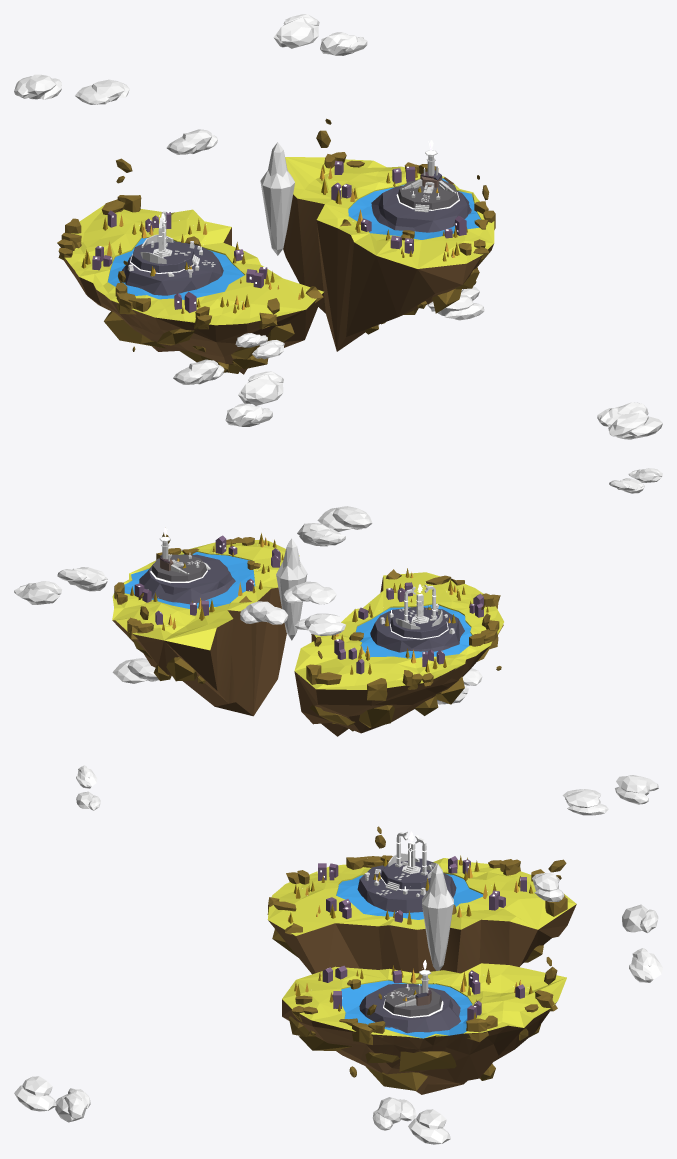
The model's file is Islands_prez.glb.
The picture shows the model from 3 angles, top to bottom: view 1: azimuth 30°, elevation 25°; view 2: azimuth 150°, elevation 25°; view 3: azimuth 270°, elevation 25°; orthographic projection. The views are drawn at different scales.
Parts seen in each view (by area): view 1: Cylinder.029, Cylinder.087, Cylinder.022, TourCentrale, SocleTour01, SOL, Nuage02.012, Nuage02.010, Nuage01.000, SOL.003, Nuage05.025, Nuage05.026 (+7 smaller); view 2: Cylinder.029, Cylinder.087, Cylinder.022, SocleTour01, TourCentrale, Nuage01.000, SOL, SOL.003, Nuage05.026, Nuage02.012, Nuage05.027, Nuage01.008 (+6 smaller); view 3: Cylinder.087, Cylinder.029, Cylinder.022, TourCentrale, SocleTour01, SOL.003, Nuage01.008, Nuage01.000, Icosphere.107, Nuage05.028, Nuage05.025, SOL (+6 smaller).
Boxes of the visible parts, bbox=[...] form: Cylinder.029: bbox=[283, 157, 494, 351]; Cylinder.087: bbox=[64, 205, 323, 374]; Cylinder.022: bbox=[371, 185, 471, 232]; TourCentrale: bbox=[260, 142, 294, 255]; SocleTour01: bbox=[122, 242, 223, 295]; SOL: bbox=[131, 241, 194, 272]; Nuage02.012: bbox=[273, 14, 319, 48]; Nuage02.010: bbox=[238, 371, 283, 405]; Nuage01.000: bbox=[608, 413, 662, 439]; SOL.003: bbox=[398, 180, 458, 209]; Nuage05.025: bbox=[14, 74, 61, 99]; Nuage05.026: bbox=[75, 79, 129, 104]; Cylinder.029: bbox=[112, 540, 299, 716]; Cylinder.087: bbox=[294, 572, 503, 736]; Cylinder.022: bbox=[139, 554, 235, 604]; SocleTour01: bbox=[370, 606, 464, 652]; TourCentrale: bbox=[276, 538, 307, 640]; Nuage01.000: bbox=[317, 506, 372, 531]; SOL: bbox=[390, 608, 447, 638]; SOL.003: bbox=[151, 554, 206, 581]; Nuage05.026: bbox=[283, 581, 336, 604]; Nuage02.012: bbox=[57, 567, 107, 591]; Nuage05.027: bbox=[240, 601, 287, 624]; Nuage01.008: bbox=[112, 658, 158, 683]; Cylinder.087: bbox=[267, 858, 576, 974]; Cylinder.029: bbox=[282, 963, 566, 1094]; Cylinder.022: bbox=[359, 983, 460, 1033]; TourCentrale: bbox=[422, 864, 453, 970]; SocleTour01: bbox=[357, 865, 456, 913]; SOL.003: bbox=[384, 986, 441, 1016]; Nuage01.008: bbox=[408, 1109, 450, 1144]; Nuage01.000: bbox=[14, 1076, 56, 1111]; Icosphere.107: bbox=[399, 1051, 456, 1071]; Nuage05.028: bbox=[372, 1097, 416, 1130]; Nuage05.025: bbox=[615, 775, 658, 804]; SOL: bbox=[381, 858, 437, 889].
Size of the model in its own units: 125 by 68.6 by 174.
